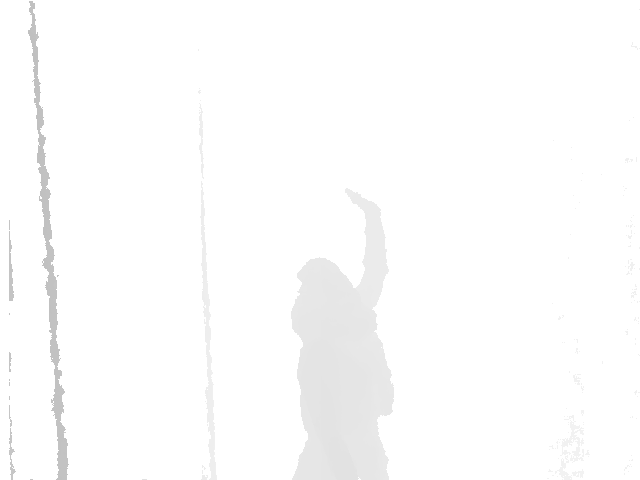hand: (345, 186, 382, 213)
head: (296, 256, 356, 302)
person: (290, 187, 394, 480)
